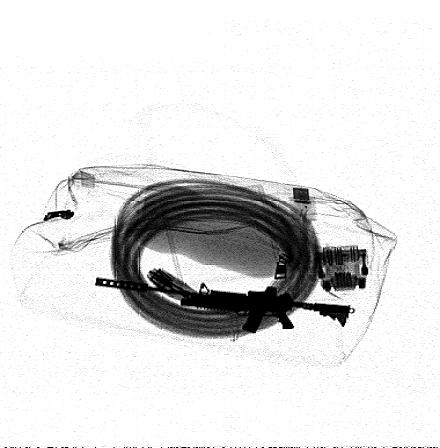Gun: (91, 277, 354, 333)
